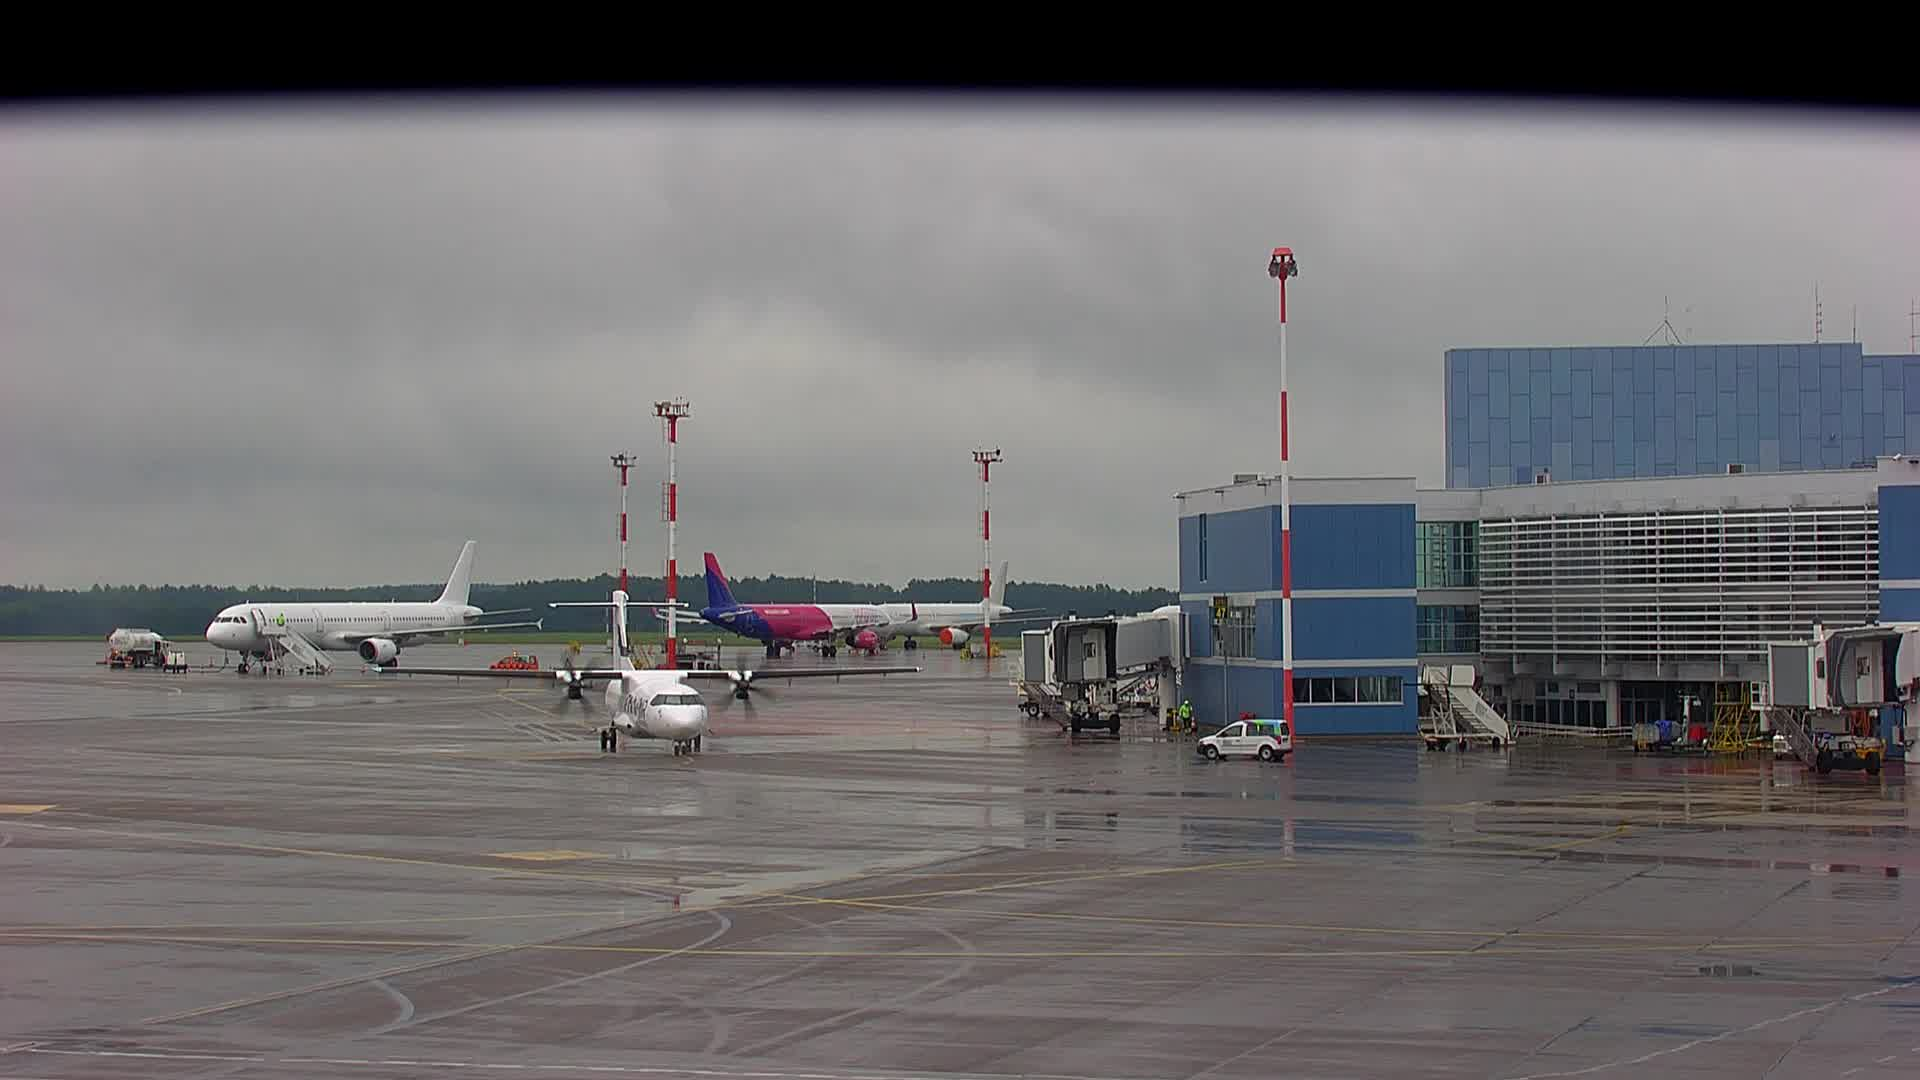Car: (1199, 712, 1294, 761)
Fuel: (96, 622, 174, 671)
Mobile stairs: (1418, 660, 1521, 754)
Plane: (378, 586, 936, 752), (187, 539, 546, 684), (646, 551, 926, 660), (869, 561, 1067, 664)
Worker: (1174, 700, 1196, 739), (274, 610, 289, 629)
